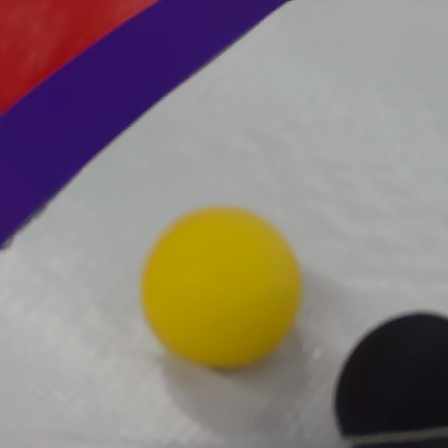black: (330, 307, 448, 448)
red_aim: (0, 0, 305, 260)
yellow: (144, 197, 309, 373)
